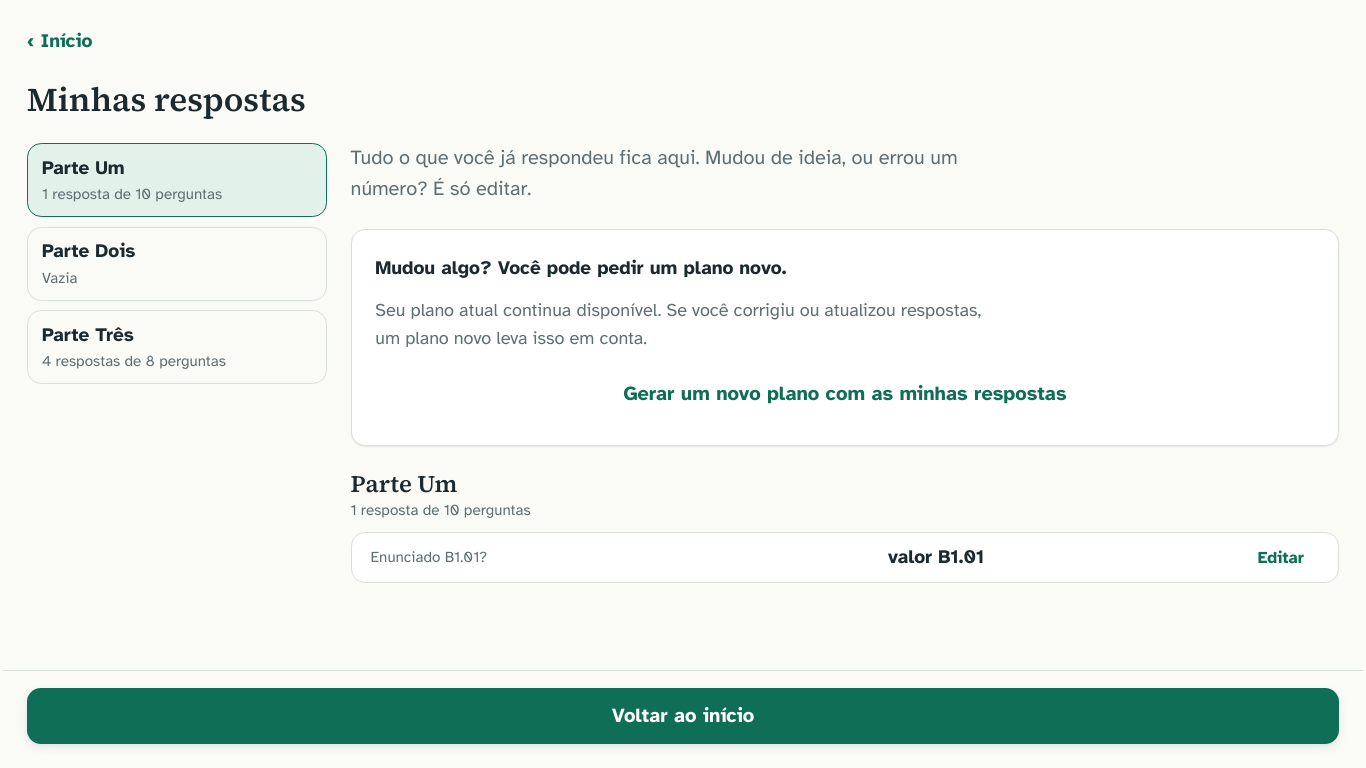
Test: TelaRespostas — plano novo depois da liberação (T-342, RF-118) › o servidor recusa (409): mostra a mensagem e não navega
Click the button "Gerar um novo plano com as minhas respostas": (845, 395) [375,368,1315,422]
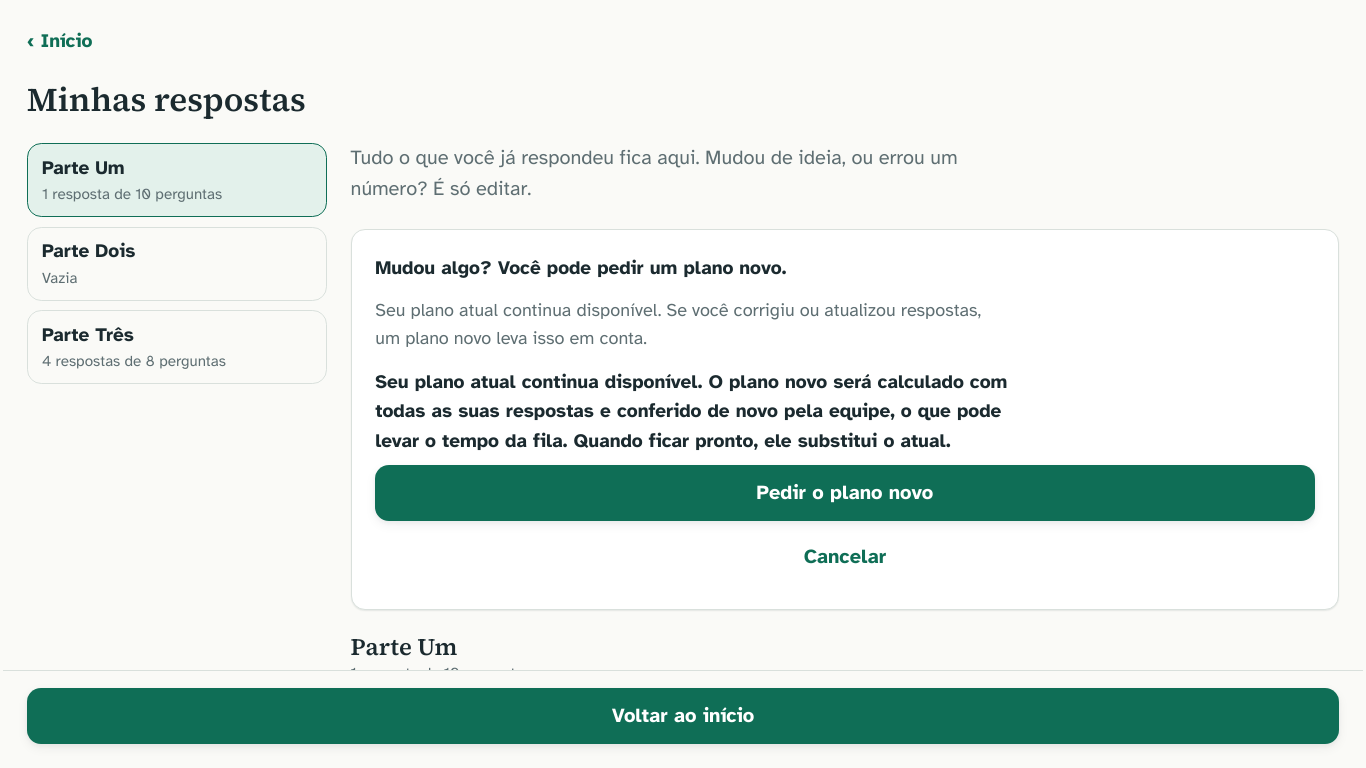
Click the button "Pedir o plano novo": (845, 494) [375,466,1315,522]
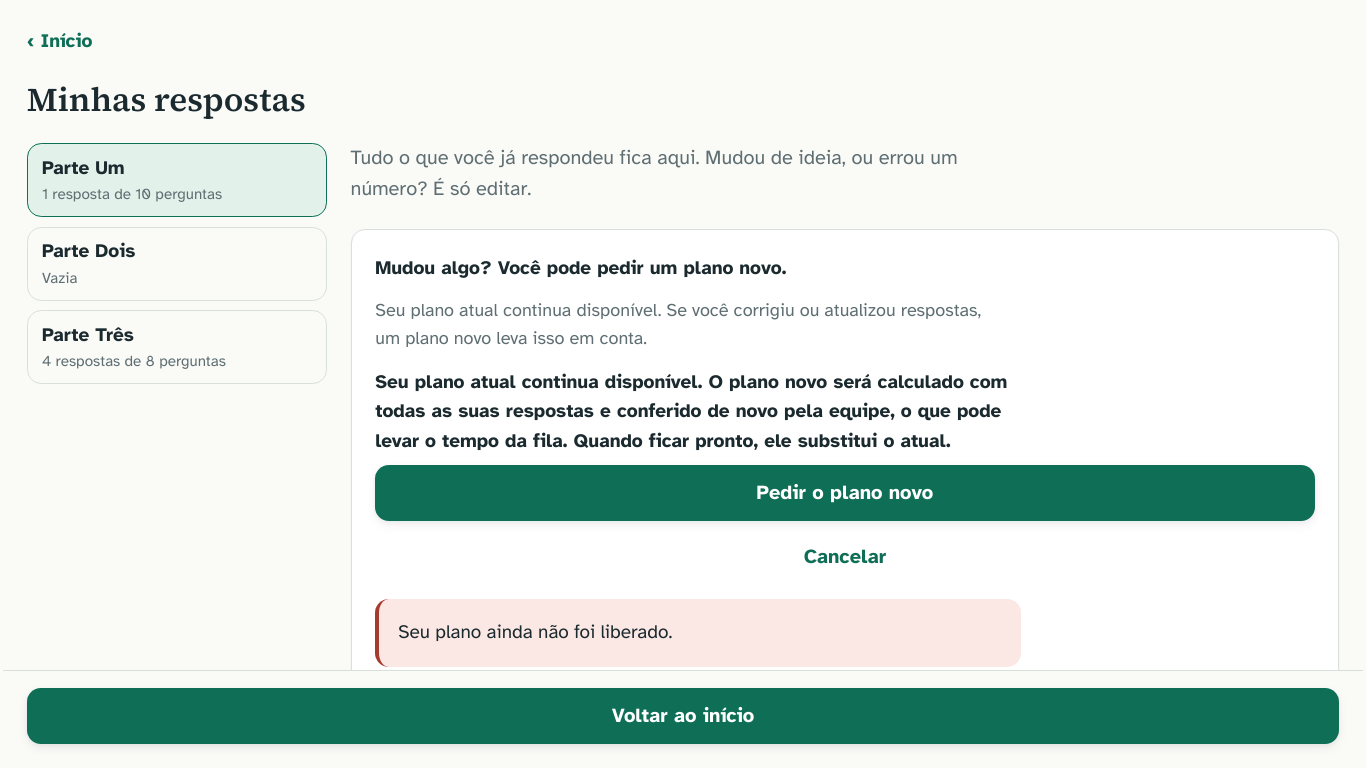
expect the message reads "Seu plano ainda não foi liberado.": met, box [398,620,672,644]
